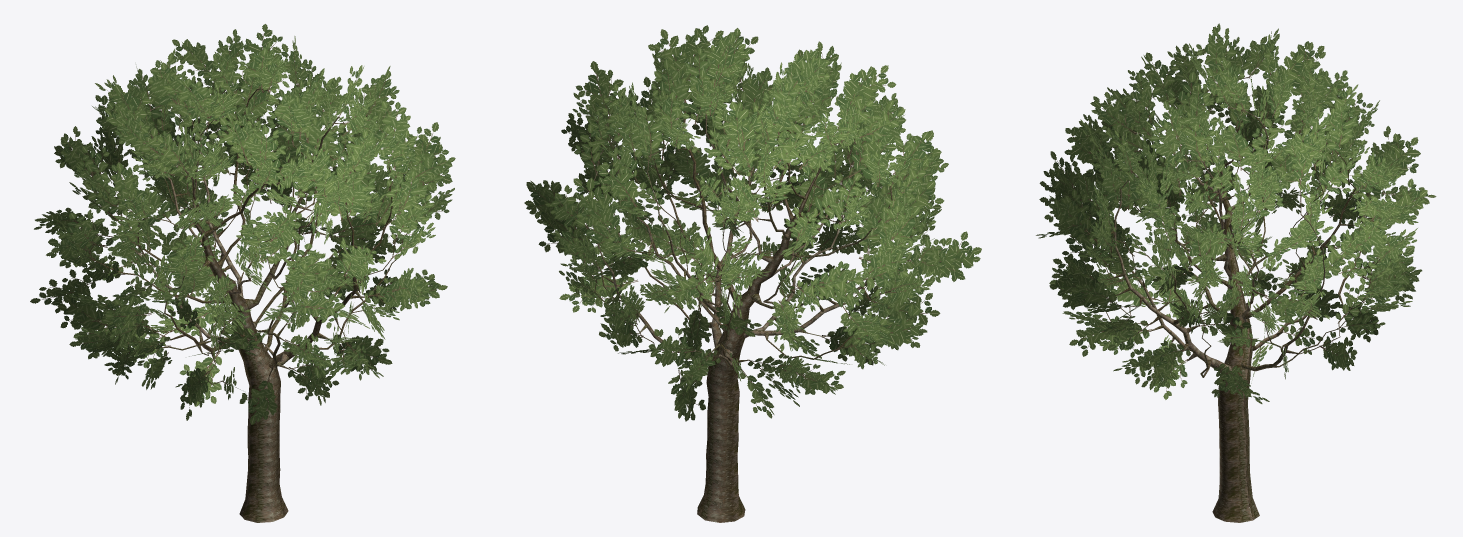
The model's file is Scenery_Tree_B.fbx.
3 views of the same model, side by side, from view 1: azimuth 30°, elevation 25°; view 2: azimuth 150°, elevation 25°; view 3: azimuth 270°, elevation 25° (orthographic). The views are drawn at different scales.
Visible parts, largest first — view 1: Scenery_Tree_B_LOD0; view 2: Scenery_Tree_B_LOD0; view 3: Scenery_Tree_B_LOD0.
Part boxes in pixels (x1=…): Scenery_Tree_B_LOD0: x1=30, y1=24, x2=455, y2=522; Scenery_Tree_B_LOD0: x1=524, y1=25, x2=981, y2=522; Scenery_Tree_B_LOD0: x1=1036, y1=23, x2=1436, y2=522.
Size of what is drawn, in the model's own units: 13.43 by 15.08 by 12.6.
